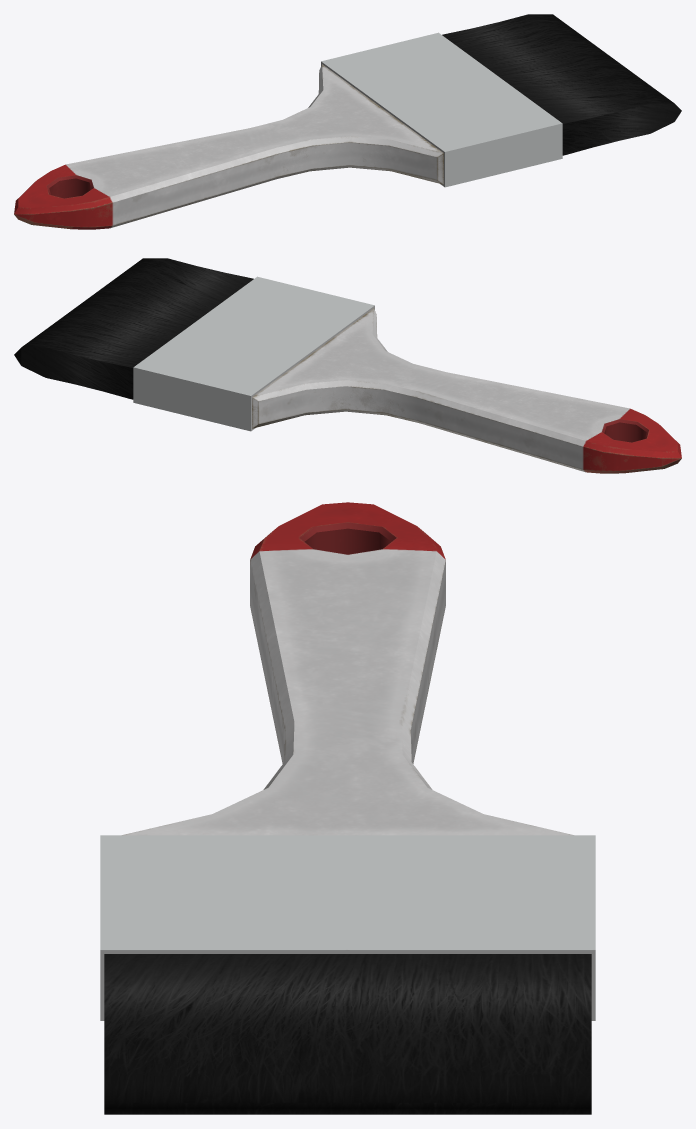
Rendered from whpaintbrush.glb.
The picture shows the model from 3 angles, top to bottom: view 1: azimuth 30°, elevation 25°; view 2: azimuth 150°, elevation 25°; view 3: azimuth 270°, elevation 25°; orthographic projection. The views are drawn at different scales.
Visible parts, largest first — view 1: Brush_Handle, Brush; view 2: Brush_Handle, Brush; view 3: Brush_Handle, Brush.
Boxes of the visible parts, box(x1,y1,x2,y2) form: Brush_Handle: box(14, 32, 562, 229); Brush: box(442, 14, 681, 155); Brush_Handle: box(133, 276, 681, 473); Brush: box(14, 258, 253, 399); Brush_Handle: box(100, 502, 595, 1020); Brush: box(104, 954, 591, 1114).
Size of the model in its own units: 0.2015 by 0.0112 by 0.0712.
1 material, 1 textured.
